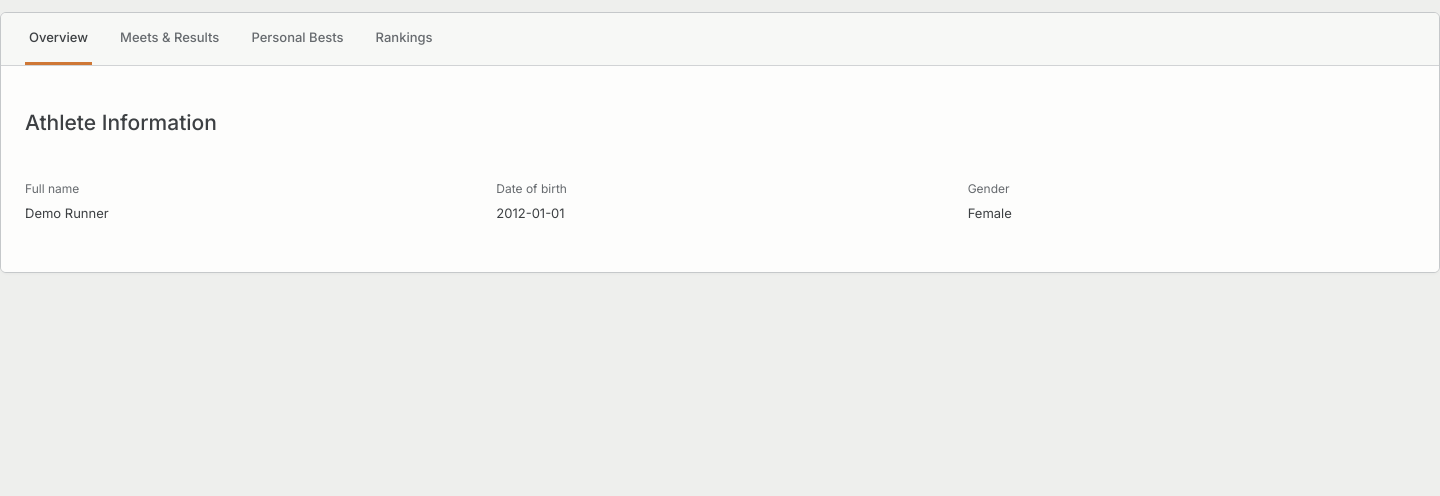
Test case: combines history filters and clears an incompatible meet for historical marks
The width and height of the screenshot is (1440, 496).
Click the tab "Meets & Results". click: [170, 39]
box: [116,13,223,65]
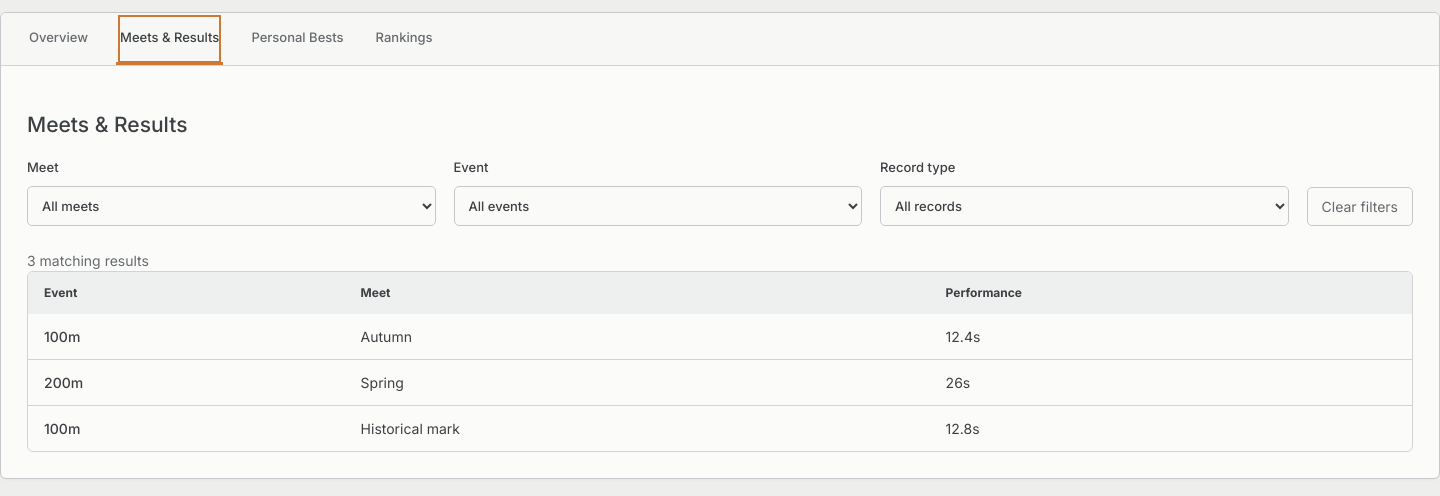
Select "Autumn" in the dropdown labelled "Meet". click: [231, 206]
box: [27,186,436,226]
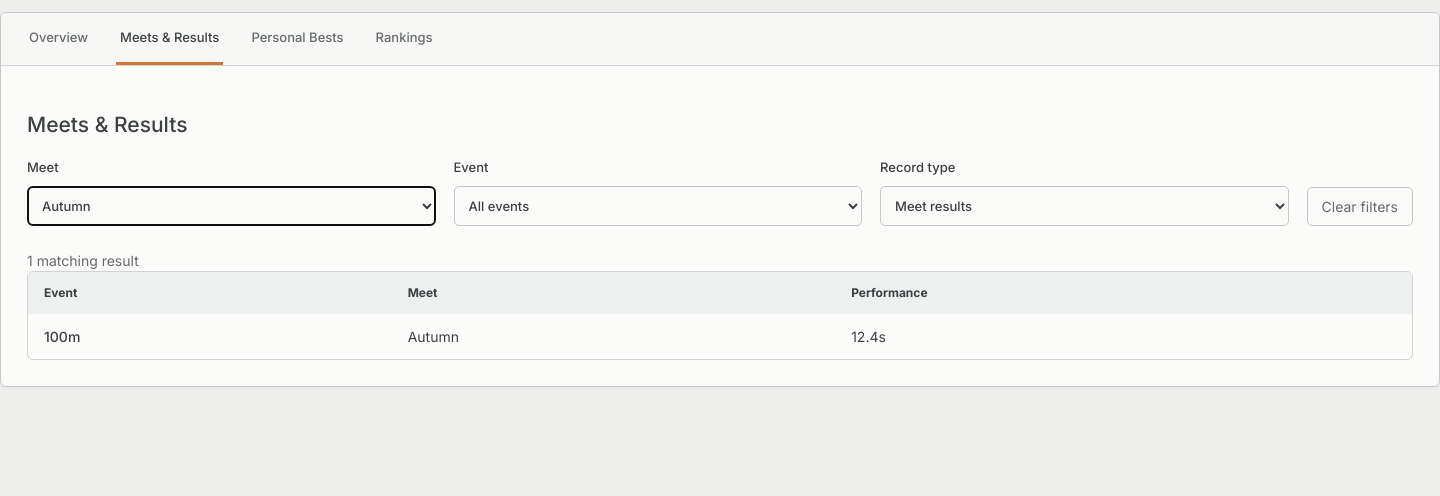
Expected: the text "12.4s" is shown, [835,314,1412,359]
Expected: the text "26s" is gone
Select "Historical marks" in the dropdown labelled "Record type". click: [1084, 206]
box: [880,186,1289,226]
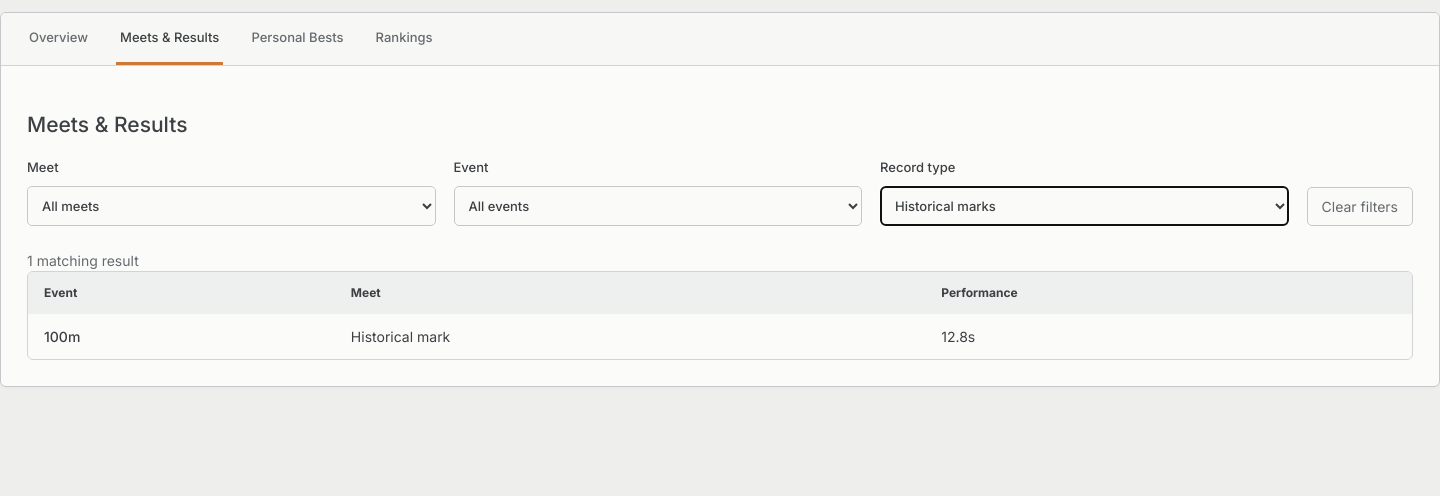
Expected: the text "12.8s" is shown, [925,314,1412,359]
Expected: the text "12.4s" is gone
Select "200m" in the dropdown labelled "Event". click: [658, 206]
box: [454,186,862,226]
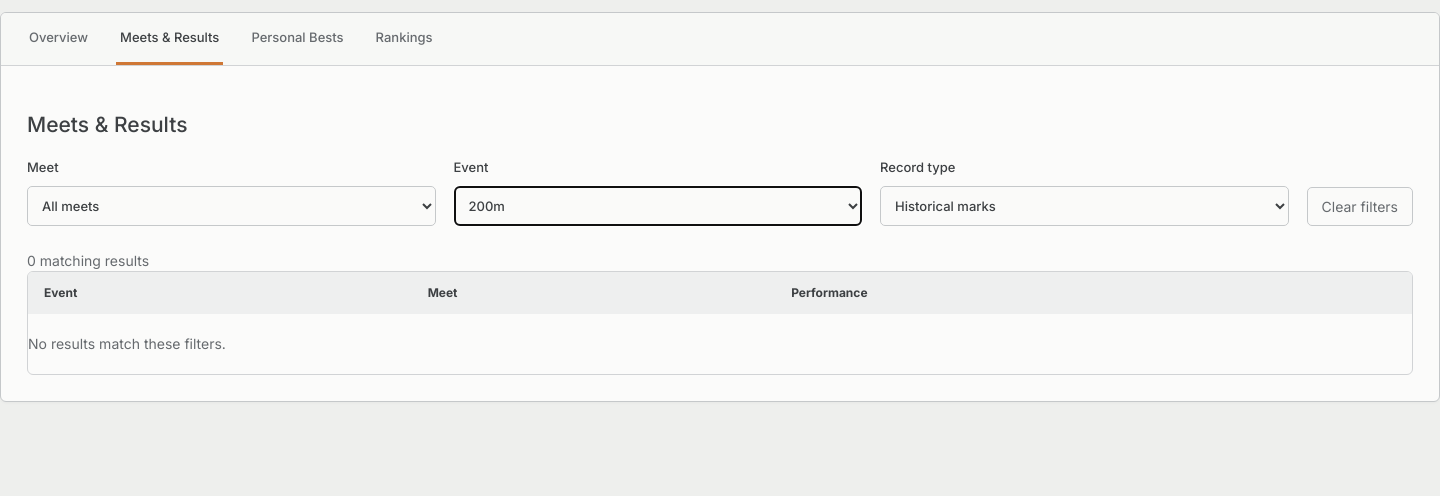
Expected: the text "No results match these filters." is shown, [28,335,226,352]
Click the button "Clear filters". click: [1360, 206]
box: [1307,187,1413,226]
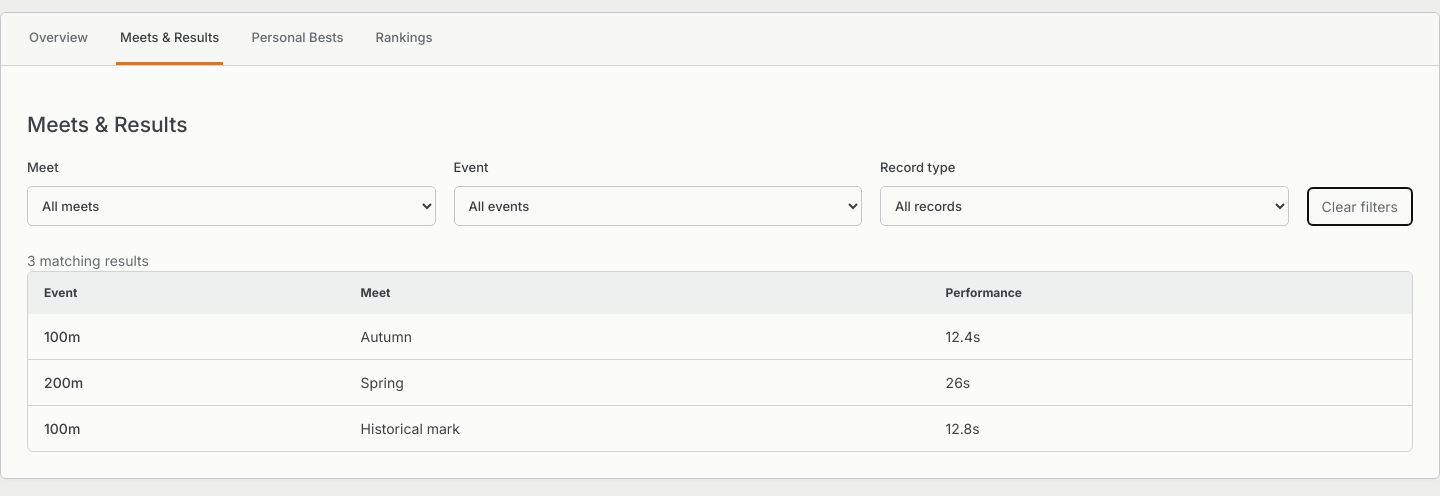
Expected: the text "3 matching results" is shown, [27,252,149,269]
